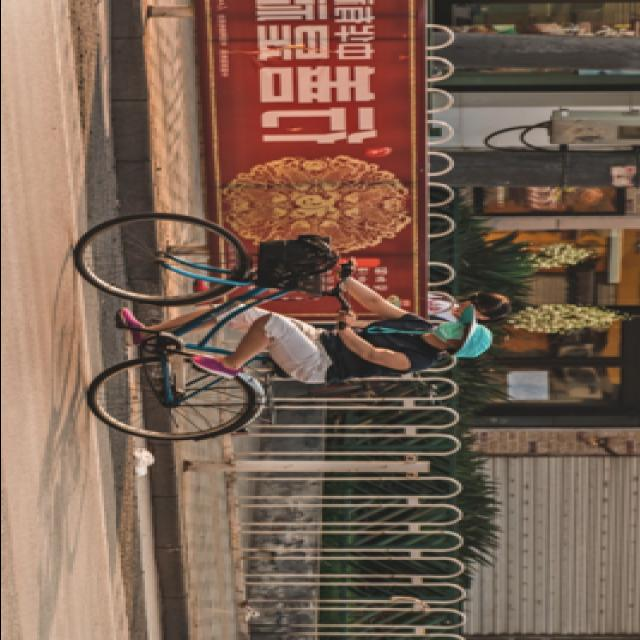with_mask: (434, 323, 477, 347)
without_mask: (456, 296, 482, 314)
